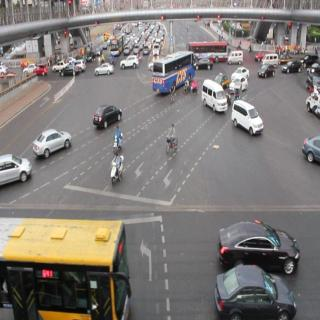BigCar: (0, 215, 132, 320), (154, 53, 193, 91), (188, 41, 226, 62)
Car: (216, 224, 299, 274), (213, 274, 298, 320), (231, 100, 263, 138), (31, 132, 71, 160), (0, 156, 31, 185), (201, 79, 226, 113), (93, 104, 123, 129), (257, 64, 276, 82), (118, 55, 138, 72), (281, 61, 301, 76), (60, 66, 81, 79), (93, 64, 115, 76), (231, 76, 247, 92), (33, 65, 49, 78), (194, 61, 212, 72), (228, 50, 242, 63), (143, 44, 151, 58), (151, 42, 160, 54)
